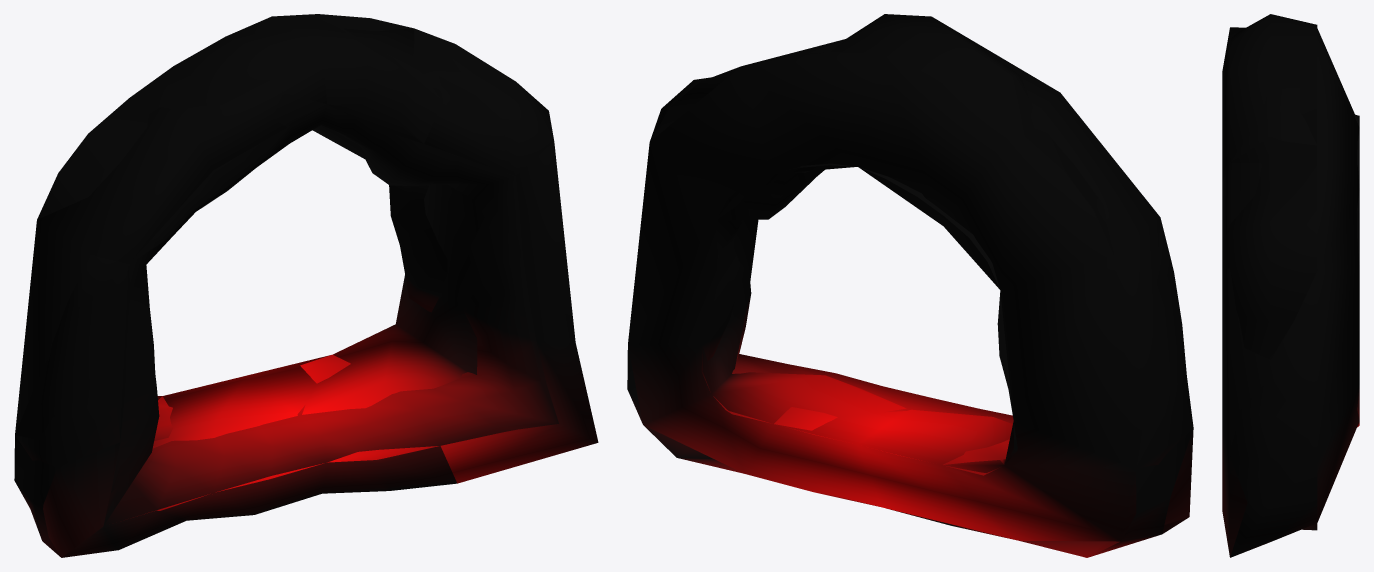
The model's file is JD_Cave_A_Tunnel_x6_Opening_01.fbx.
3 renders of one model, left to right at view 1: azimuth 30°, elevation 25°; view 2: azimuth 150°, elevation 25°; view 3: azimuth 270°, elevation 25°, orthographic. The views are drawn at different scales.
Visible parts, largest first — view 1: JD_Cave_A_Tunnel_x6_Opening_01, C_JD_Cave_A_Tunnel_x6_Opening_01; view 2: C_JD_Cave_A_Tunnel_x6_Opening_01, JD_Cave_A_Tunnel_x6_Opening_01; view 3: JD_Cave_A_Tunnel_x6_Opening_01, C_JD_Cave_A_Tunnel_x6_Opening_01.
Part boxes in pixels (box(x1,y1,x2,y2)): JD_Cave_A_Tunnel_x6_Opening_01: box(14, 14, 558, 557); C_JD_Cave_A_Tunnel_x6_Opening_01: box(15, 28, 598, 557); C_JD_Cave_A_Tunnel_x6_Opening_01: box(628, 20, 1193, 541); JD_Cave_A_Tunnel_x6_Opening_01: box(627, 14, 1193, 557); JD_Cave_A_Tunnel_x6_Opening_01: box(1222, 14, 1359, 557); C_JD_Cave_A_Tunnel_x6_Opening_01: box(1222, 27, 1359, 557).
Bounding box in the file's own units: 9.03 × 7.51 × 2.28.
